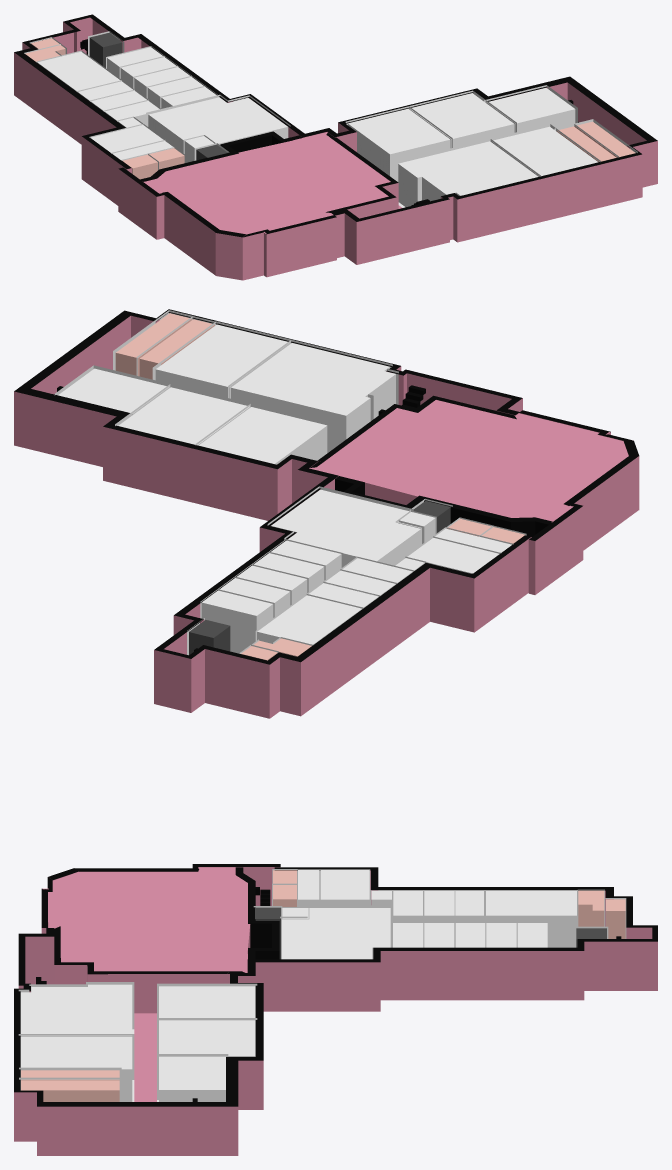
The picture shows the model from 3 angles, top to bottom: view 1: azimuth 30°, elevation 25°; view 2: azimuth 150°, elevation 25°; view 3: azimuth 270°, elevation 25°; orthographic projection. The views are drawn at different scales.
Parts seen in each view (by area): view 1: object, room_1_2_5, room_1_2_15, room_1_2_2, room_1_2_3, room_1_2_6, room_1_2_4, room_1_2_19, room_1_2_14, トイレ_1_2_1, エレベーター_1_2_3, トイレ_1_2_4 (+14 smaller); view 2: object, room_1_2_5, room_1_2_15, room_1_2_6, room_1_2_2, room_1_2_3, room_1_2_19, room_1_2_4, room_1_2_18, room_1_2_14, トイレ_1_2_1, トイレ_1_2_4 (+12 smaller); view 3: object, room_1_2_5, room_1_2_15, room_1_2_6, room_1_2_19, room_1_2_3, room_1_2_2, room_1_2_4, トイレ_1_2_1, room_1_2_14, トイレ_1_2_6, トイレ_1_2_4 (+10 smaller).
Part boxes in pixels (x1=…): object: x1=14, y1=14, x2=657, y2=280; room_1_2_5: x1=398, y1=141, x2=538, y2=206; room_1_2_15: x1=148, y1=97, x2=288, y2=153; room_1_2_2: x1=348, y1=109, x2=450, y2=180; room_1_2_3: x1=409, y1=93, x2=514, y2=148; room_1_2_6: x1=491, y1=126, x2=597, y2=176; room_1_2_4: x1=486, y1=88, x2=575, y2=132; room_1_2_19: x1=37, y1=51, x2=120, y2=91; room_1_2_14: x1=90, y1=125, x2=163, y2=152; トイレ_1_2_1: x1=575, y1=121, x2=635, y2=157; エレベーター_1_2_3: x1=89, y1=32, x2=122, y2=67; トイレ_1_2_4: x1=556, y1=126, x2=616, y2=162; object: x1=14, y1=309, x2=639, y2=718; room_1_2_5: x1=231, y1=343, x2=395, y2=450; room_1_2_15: x1=271, y1=489, x2=421, y2=566; room_1_2_6: x1=155, y1=324, x2=290, y2=398; room_1_2_2: x1=199, y1=407, x2=327, y2=464; room_1_2_3: x1=118, y1=387, x2=250, y2=445; room_1_2_19: x1=257, y1=595, x2=361, y2=644; room_1_2_4: x1=58, y1=368, x2=169, y2=414; room_1_2_18: x1=201, y1=590, x2=273, y2=653; room_1_2_14: x1=407, y1=537, x2=499, y2=573; トイレ_1_2_1: x1=115, y1=313, x2=191, y2=376; トイレ_1_2_4: x1=139, y1=319, x2=214, y2=379; object: x1=14, y1=864, x2=657, y2=1155; room_1_2_5: x1=20, y1=984, x2=132, y2=1036; room_1_2_15: x1=282, y1=908, x2=390, y2=959; room_1_2_6: x1=20, y1=1036, x2=132, y2=1101; room_1_2_19: x1=486, y1=891, x2=576, y2=947; room_1_2_3: x1=159, y1=1020, x2=255, y2=1056; room_1_2_2: x1=159, y1=986, x2=255, y2=1020; room_1_2_4: x1=159, y1=1056, x2=225, y2=1101; トイレ_1_2_1: x1=21, y1=1080, x2=119, y2=1101; room_1_2_14: x1=320, y1=870, x2=369, y2=905; トイレ_1_2_6: x1=578, y1=890, x2=604, y2=926; トイレ_1_2_4: x1=21, y1=1070, x2=119, y2=1080.
Size of the model in its own units: 2.08 by 0.6297 by 2.29.
